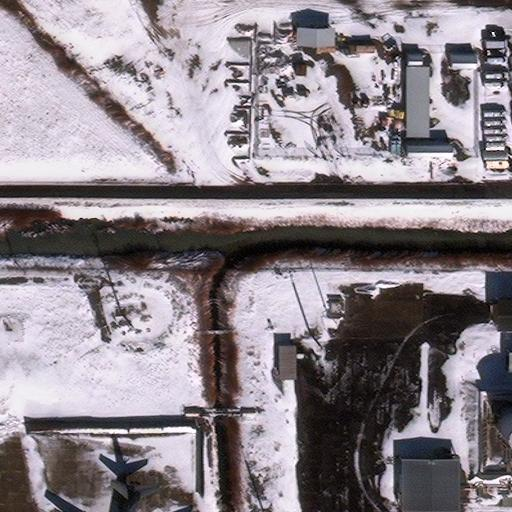Military Transport: (54, 487, 172, 512)
